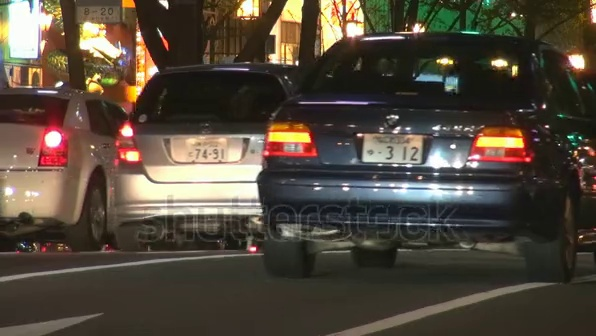licenseplate: (355, 132, 429, 169), (169, 134, 235, 159)
